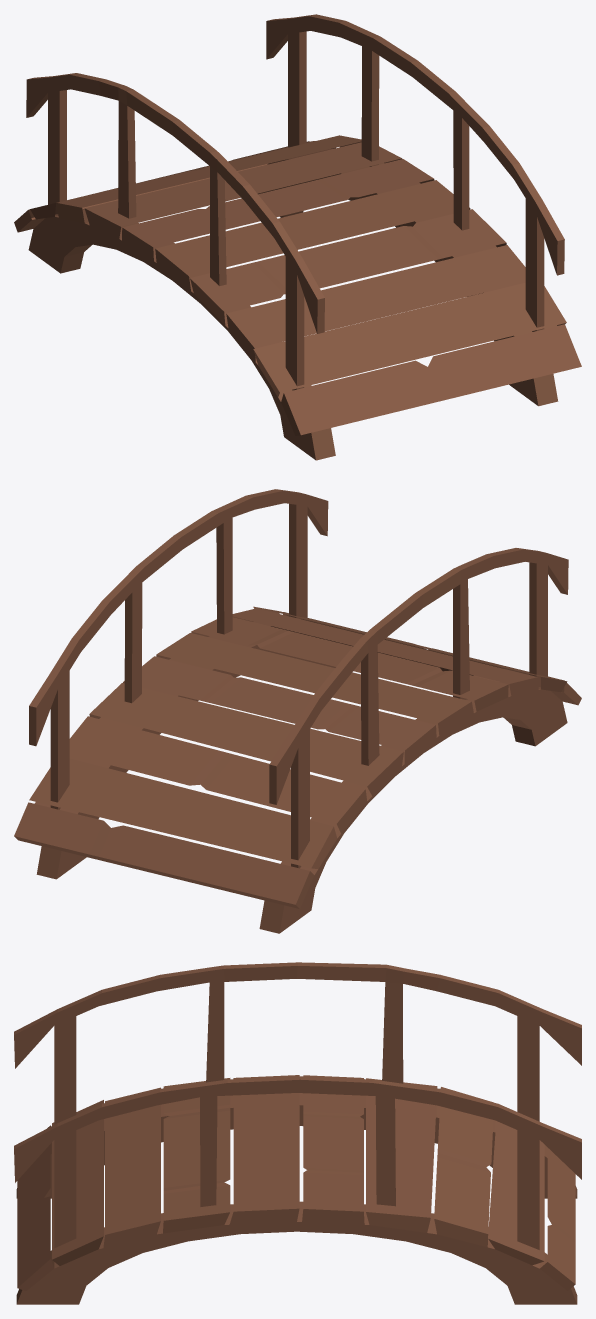
The model's file is bro.fbx.
3 views of the same model, one above another, from view 1: azimuth 30°, elevation 25°; view 2: azimuth 150°, elevation 25°; view 3: azimuth 270°, elevation 25° (orthographic). The views are drawn at different scales.
Parts seen in each view (by area): view 1: Cube.003; view 2: Cube.003; view 3: Cube.003.
Boxes of the visible parts, x1,y1,x2,y2 form: Cube.003: [14, 14, 581, 460]; Cube.003: [14, 489, 581, 933]; Cube.003: [14, 962, 581, 1304].
Bounding box in the file's own units: 1035 × 804 × 1820.
